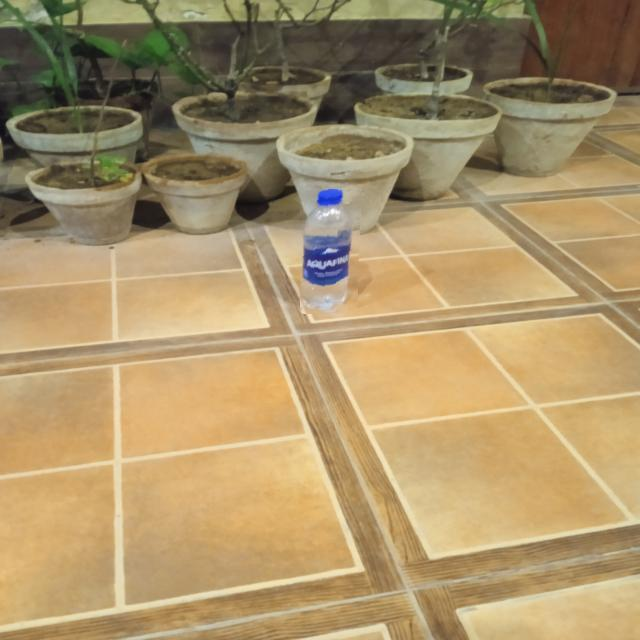Plastic: (300, 188, 362, 315)
